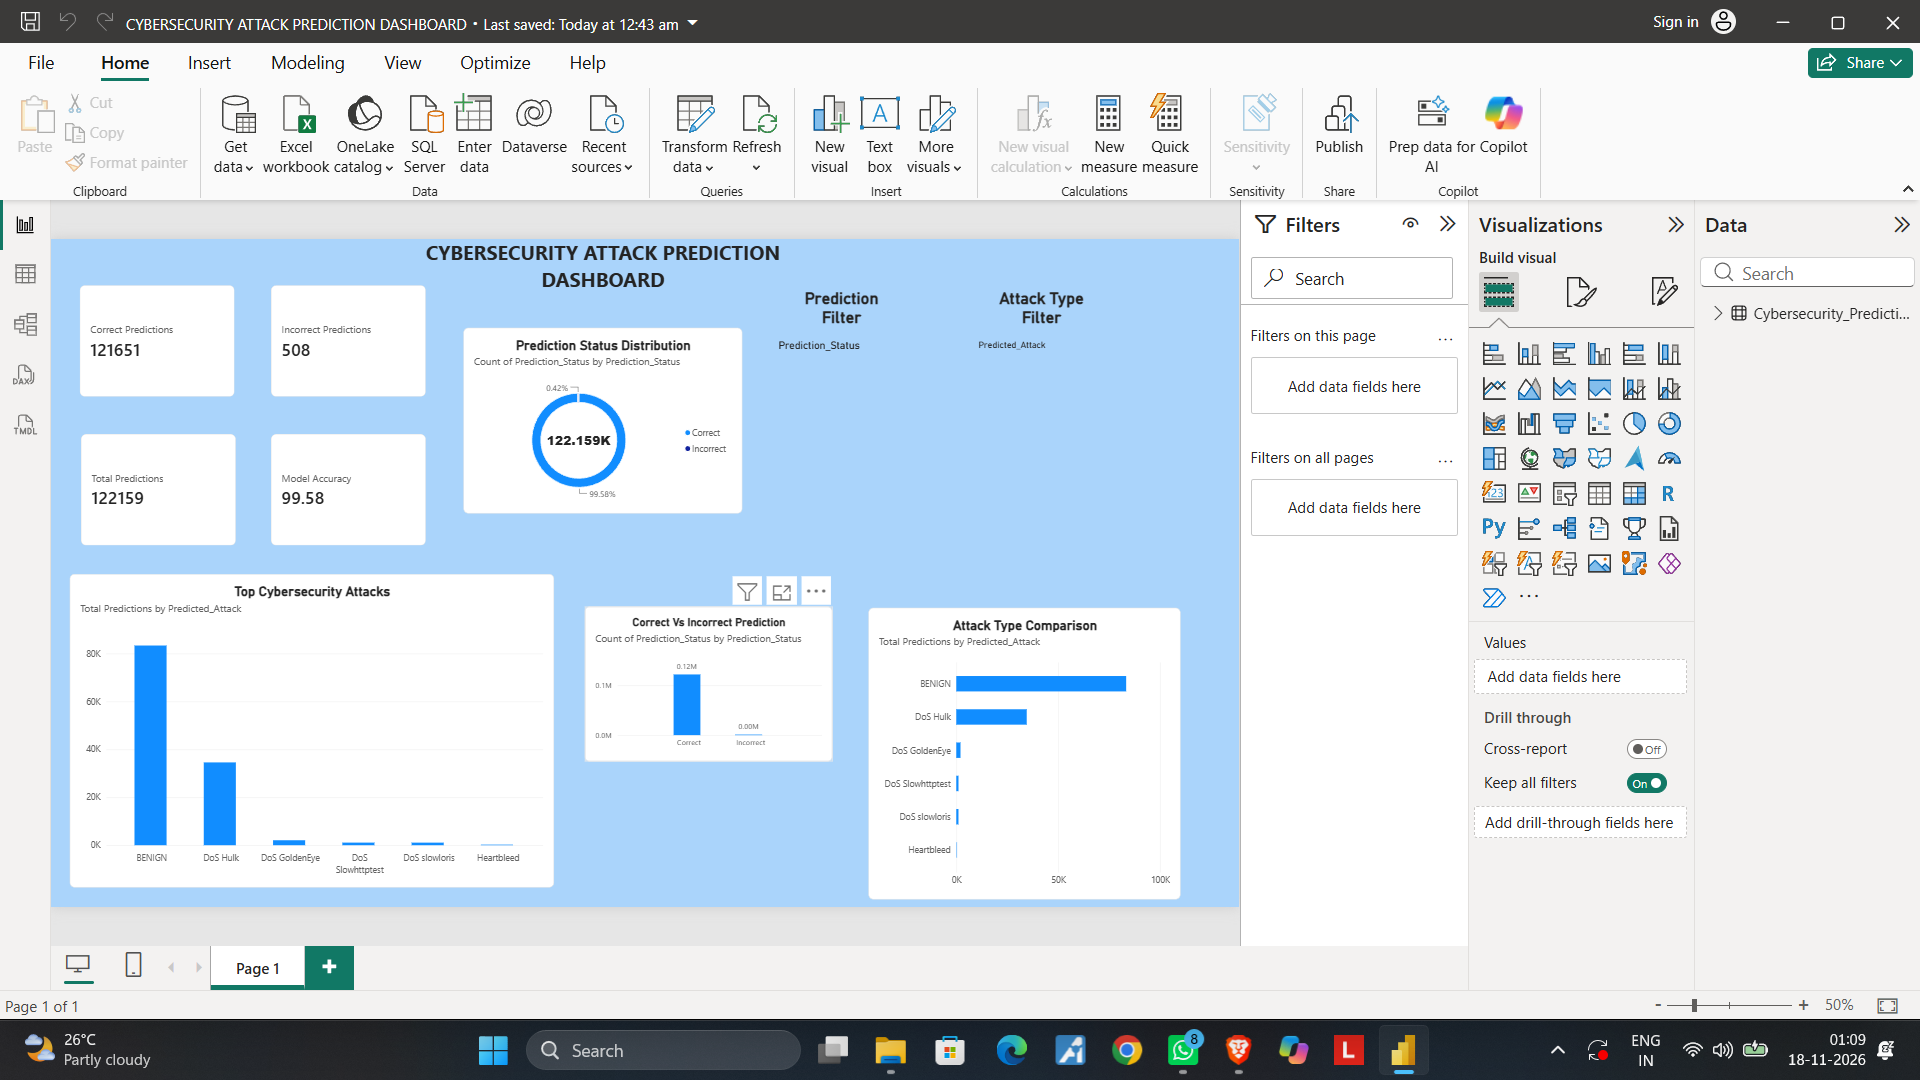

Layout of this report page (visuals, bound fields, positions):
{"tool":"powerbi","page":{"name":"Page 1","canvas":[1920,1080],"ordinal":0},"visuals":[{"type":"cardVisual","fields":{"Data":["Cybersecurity_Predictions.Model Accuracy"]},"box":[356,316,250,180],"z":0},{"type":"cardVisual","fields":{"Data":["Cybersecurity_Predictions.Total Predictions"]},"box":[48,316,250,180],"z":1000},{"type":"cardVisual","fields":{"Data":["Cybersecurity_Predictions.Correct Predictions"]},"box":[46,74,250,180],"z":2000},{"type":"cardVisual","fields":{"Data":["Cybersecurity_Predictions.Incorrect Predictions"]},"box":[356,74,250,180],"z":3000},{"type":"donutChart","title":"Prediction Status Distribution","fields":{"Category":["Cybersecurity_Predictions.Prediction_Status"],"Y":["CountNonNull(Cybersecurity_Predictions.Prediction_Status)"]},"box":[666,144,450,300],"z":4000},{"type":"clusteredColumnChart","title":"Top Cybersecurity Attacks","fields":{"Category":["Cybersecurity_Predictions.Predicted_Attack"],"Y":["Cybersecurity_Predictions.Total Predictions"]},"box":[30.3,541.2,782.2,506.3],"z":5000},{"type":"clusteredBarChart","title":"Attack Type Comparison","fields":{"Y":["Cybersecurity_Predictions.Total Predictions"],"Category":["Cybersecurity_Predictions.Predicted_Attack"]},"box":[1321.4,594.9,504.3,471.4],"z":6000},{"type":"textbox","box":[504.8,0,773.4,129.2],"z":7000},{"type":"slicer","title":"Prediction Filter","fields":{"Values":["Cybersecurity_Predictions.Prediction_Status"]},"box":[1168,80,220,100],"z":8000},{"type":"slicer","title":"Attack Type Filter","fields":{"Values":["Cybersecurity_Predictions.Predicted_Attack"]},"box":[1490,80,220,100],"z":9000},{"type":"clusteredColumnChart","title":"Correct Vs Incorrect Prediction ","fields":{"Category":["Cybersecurity_Predictions.Prediction_Status"],"Y":["CountNonNull(Cybersecurity_Predictions.Prediction_Status)"]},"box":[862,594,400,250],"z":10000}]}

Visuals, with their boxes on the page's 1920x1080 design canvas (x1, y1, x2, y2). These are canvas units, not pixel positions in the 1920x1080 screenshot, which may show the page scaled, cropped or inside an application window:
cardVisual - Cybersecurity_Predictions.Model Accuracy: 356/316/606/496
cardVisual - Cybersecurity_Predictions.Total Predictions: 48/316/298/496
cardVisual - Cybersecurity_Predictions.Correct Predictions: 46/74/296/254
cardVisual - Cybersecurity_Predictions.Incorrect Predictions: 356/74/606/254
"Prediction Status Distribution" donutChart: 666/144/1116/444
"Top Cybersecurity Attacks" clusteredColumnChart: 30/541/812/1048
"Attack Type Comparison" clusteredBarChart: 1321/595/1826/1066
textbox: 505/0/1278/129
"Prediction Filter" slicer: 1168/80/1388/180
"Attack Type Filter" slicer: 1490/80/1710/180
"Correct Vs Incorrect Prediction " clusteredColumnChart: 862/594/1262/844
